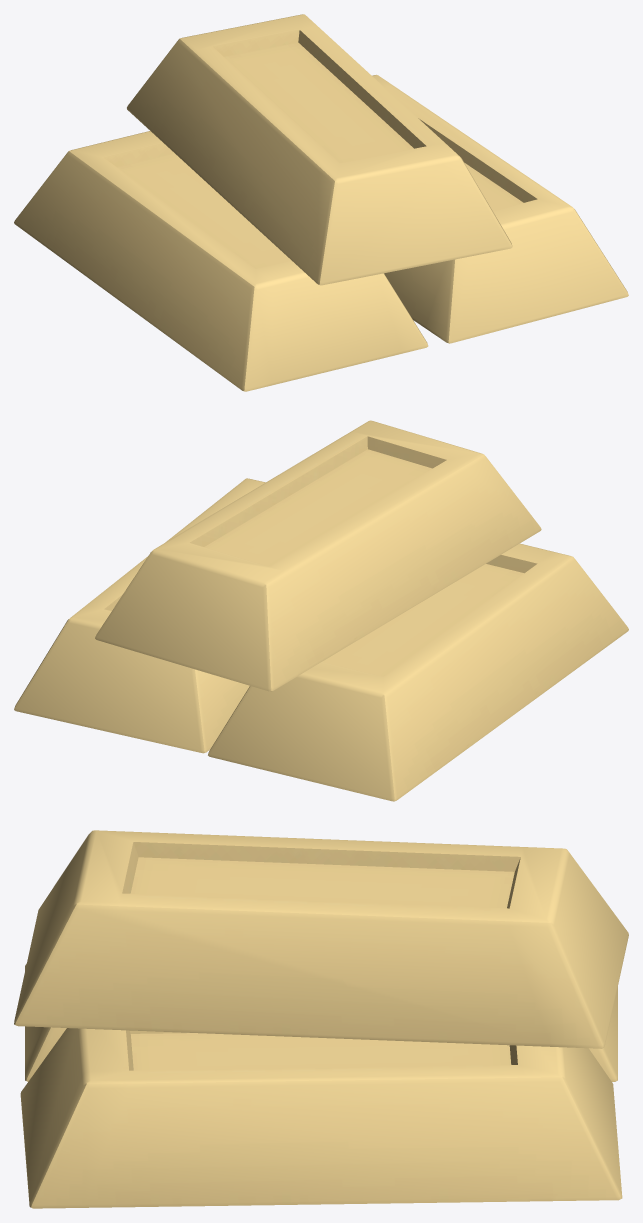
Rendered from goldbar.glb.
3 views of the same model, one above another, from view 1: azimuth 30°, elevation 25°; view 2: azimuth 150°, elevation 25°; view 3: azimuth 270°, elevation 25° (orthographic). The views are drawn at different scales.
Visible parts, largest first — view 1: Object_4; view 2: Object_4; view 3: Object_4.
Part boxes in pixels (box(x1,y1,x2,y2)): Object_4: box(14, 14, 628, 391); Object_4: box(14, 420, 628, 801); Object_4: box(14, 830, 628, 1208).
Bounding box in the file's own units: 2.88 × 1.17 × 3.09.
Materials: 1 (1 with a texture image).
